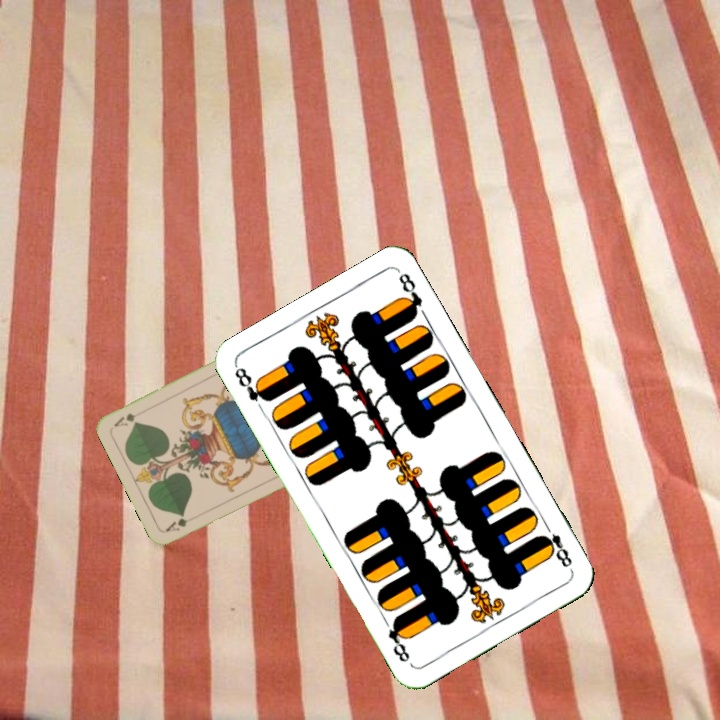E8: (536, 518, 575, 570), (230, 362, 273, 405)
GA: (162, 511, 200, 535)
